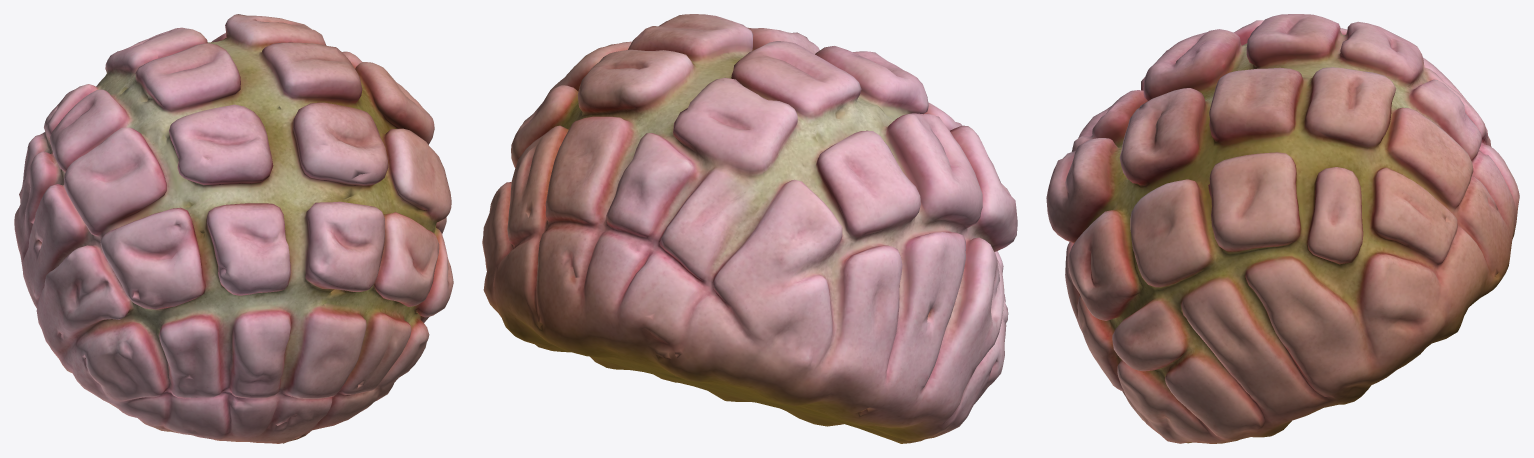
The model's file is Stack 1B - Concha.glb.
3 views of the same model, side by side, from view 1: azimuth 30°, elevation 25°; view 2: azimuth 150°, elevation 25°; view 3: azimuth 270°, elevation 25° (orthographic). The views are drawn at different scales.
Visible parts, largest first — view 1: Concha; view 2: Concha; view 3: Concha.
Part boxes in pixels (x1,y1,x2,y2): Concha: (14, 14, 453, 443); Concha: (482, 14, 1017, 443); Concha: (1046, 14, 1519, 443).
Bounding box in the file's own units: 1 × 0.8901 × 1.01.
Materials: 1 (1 with a texture image).
